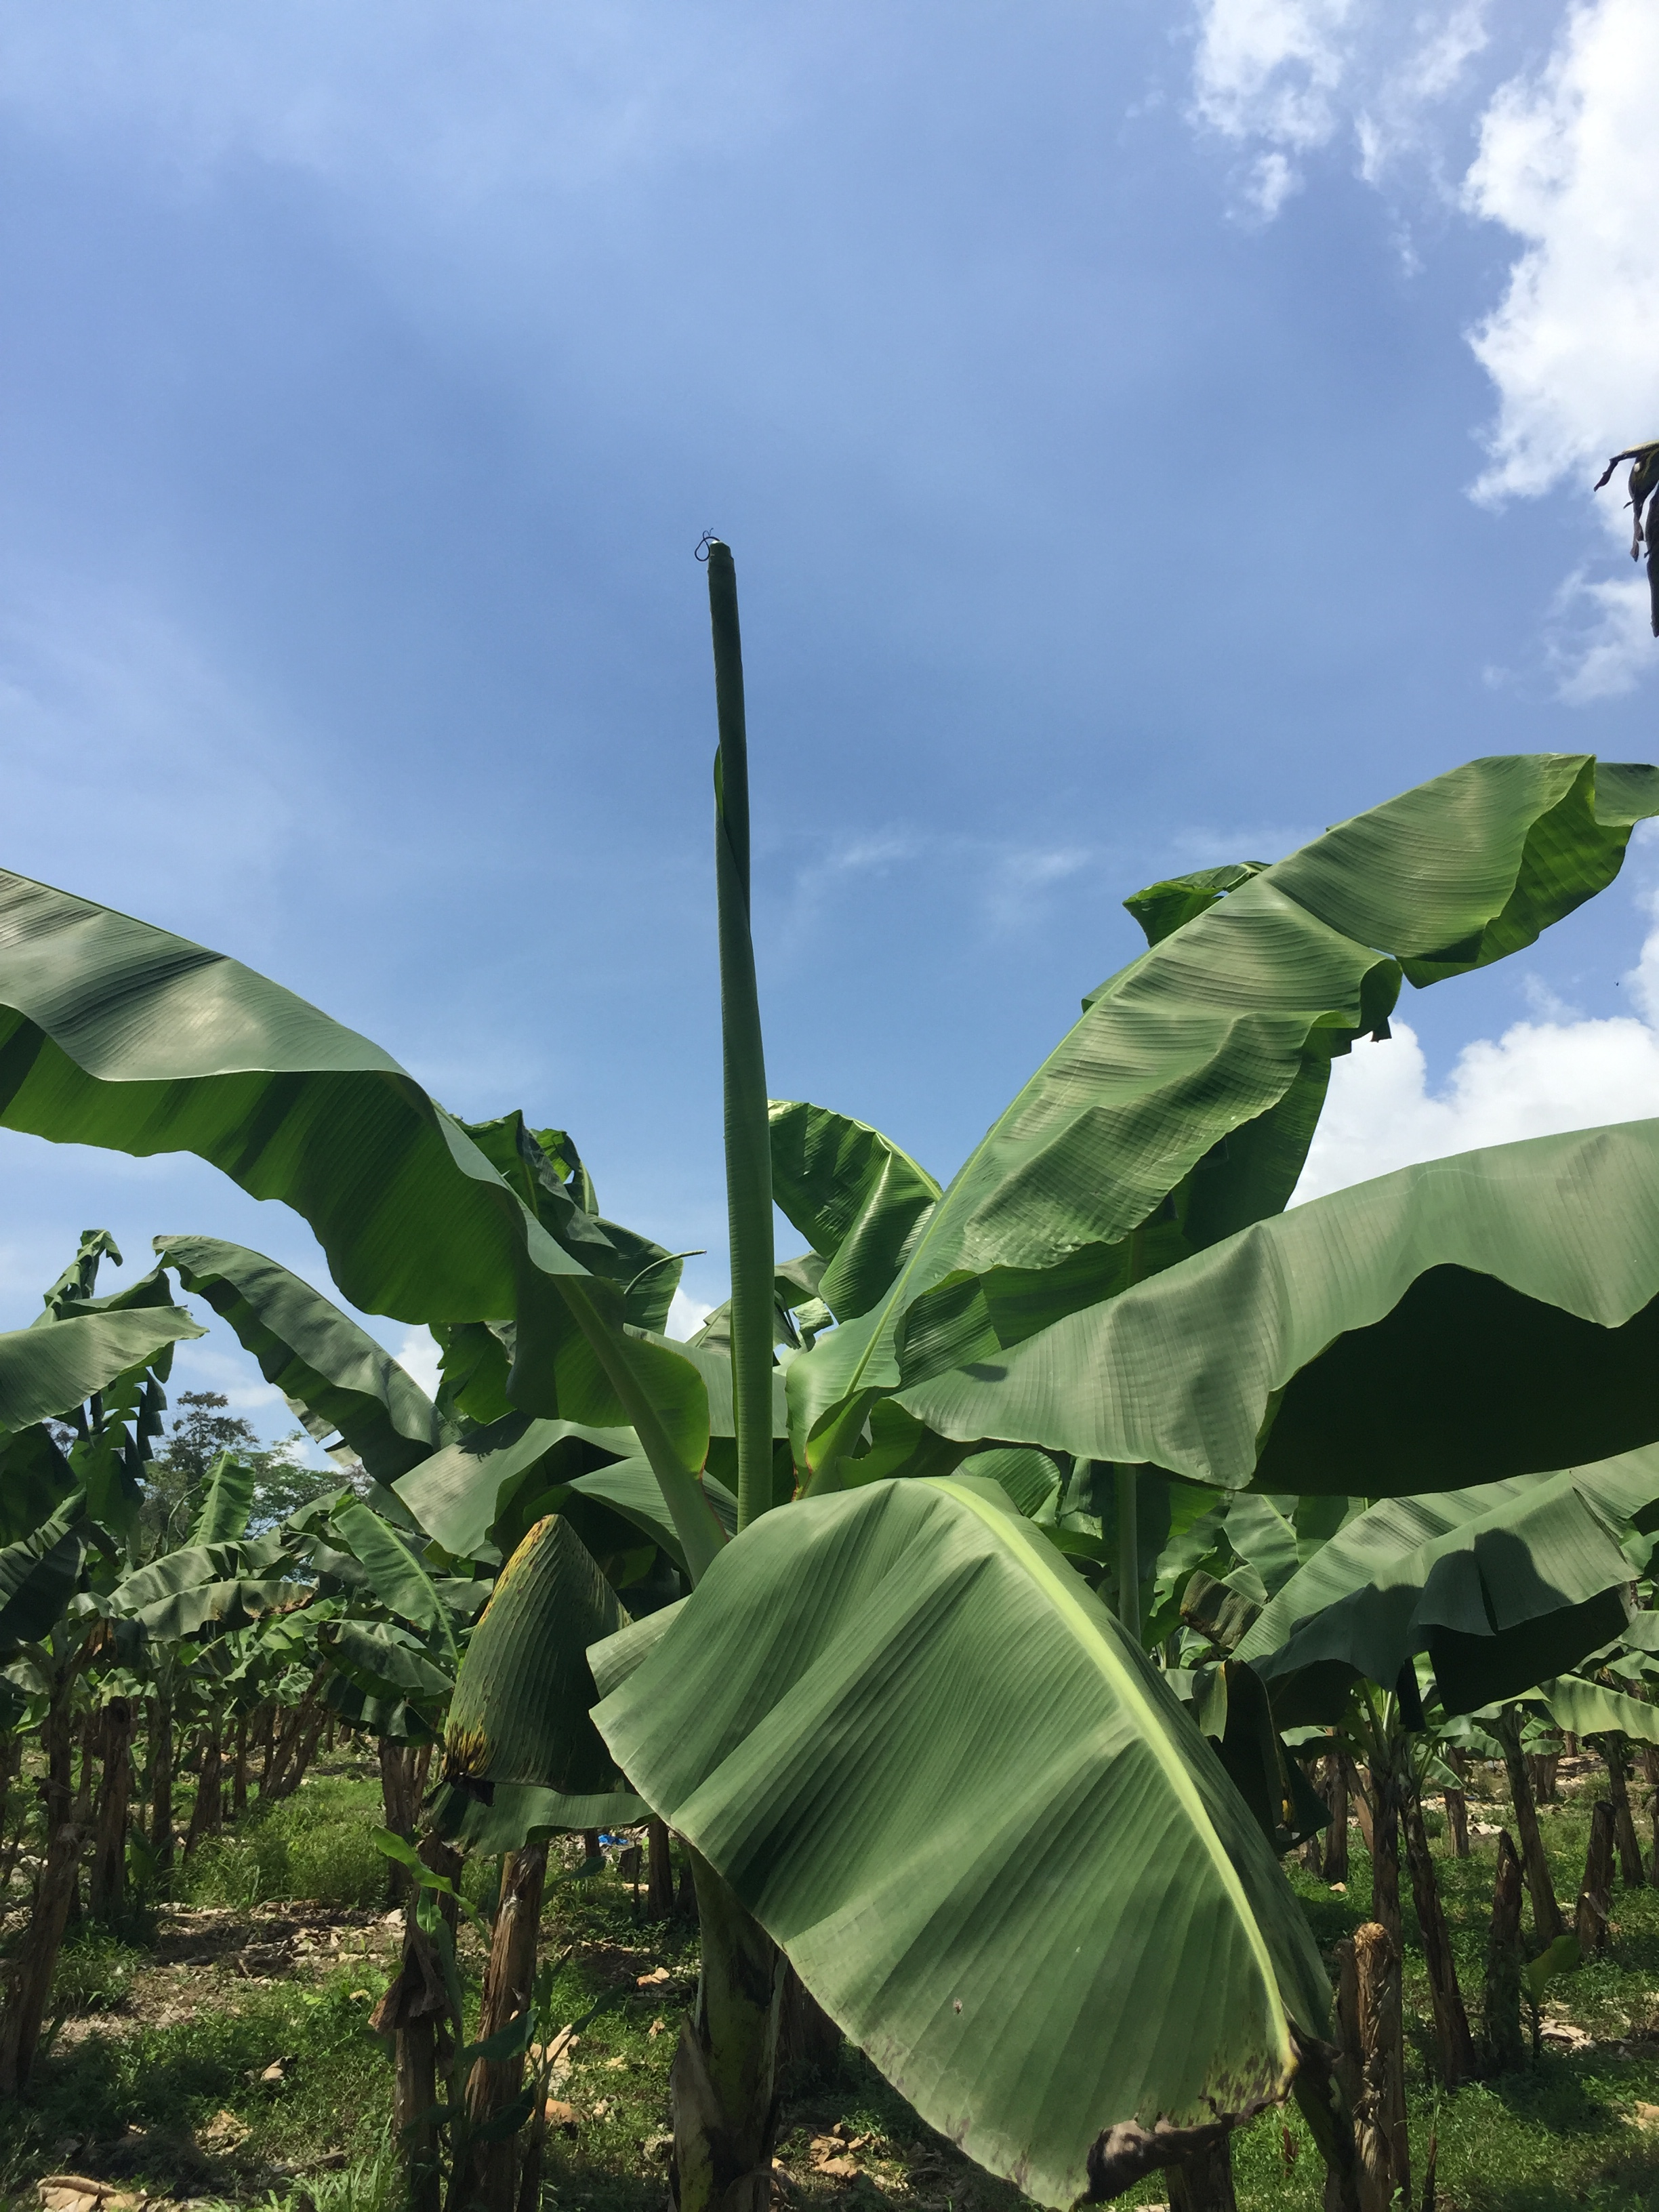candleleafs: (697, 528, 772, 1534)
